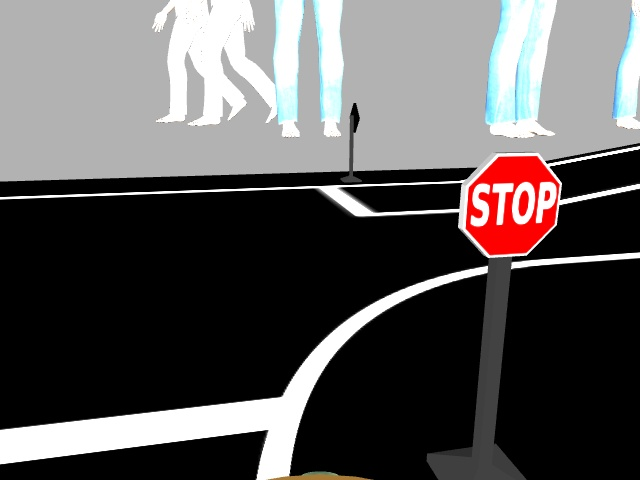Stop: (464, 150, 556, 258)
